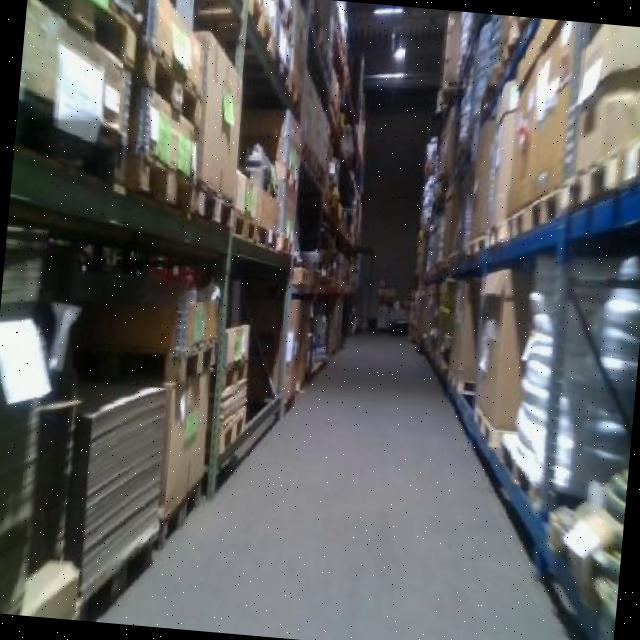pallet: (560, 129, 640, 224), (119, 132, 201, 219), (516, 171, 574, 239), (164, 334, 224, 394), (184, 176, 243, 237), (223, 200, 264, 250), (458, 228, 498, 262)
